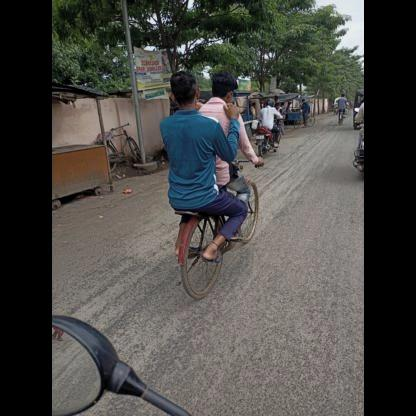Bicycle: (147, 152, 272, 311)
